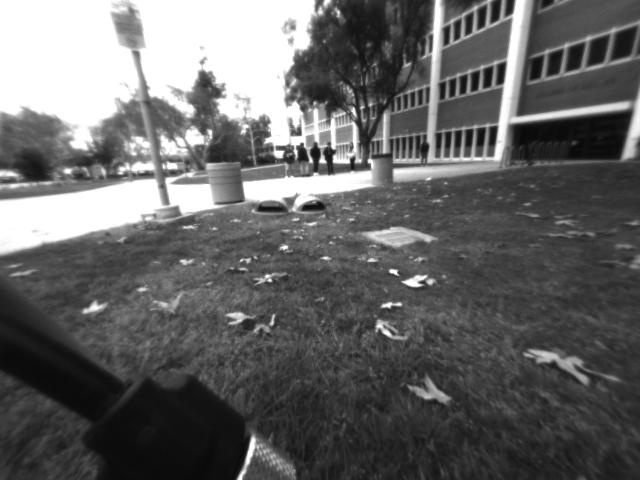trashcan: (203, 158, 249, 206), (367, 148, 398, 187)
